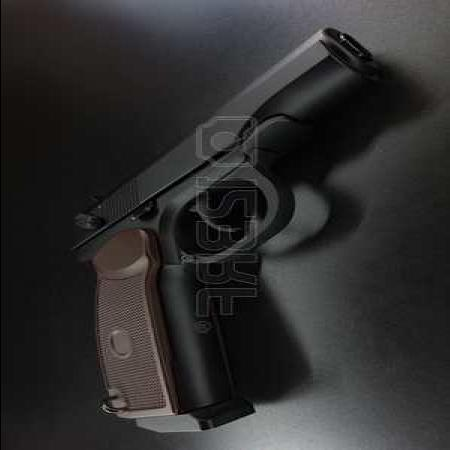Pistol: (63, 27, 385, 433)
